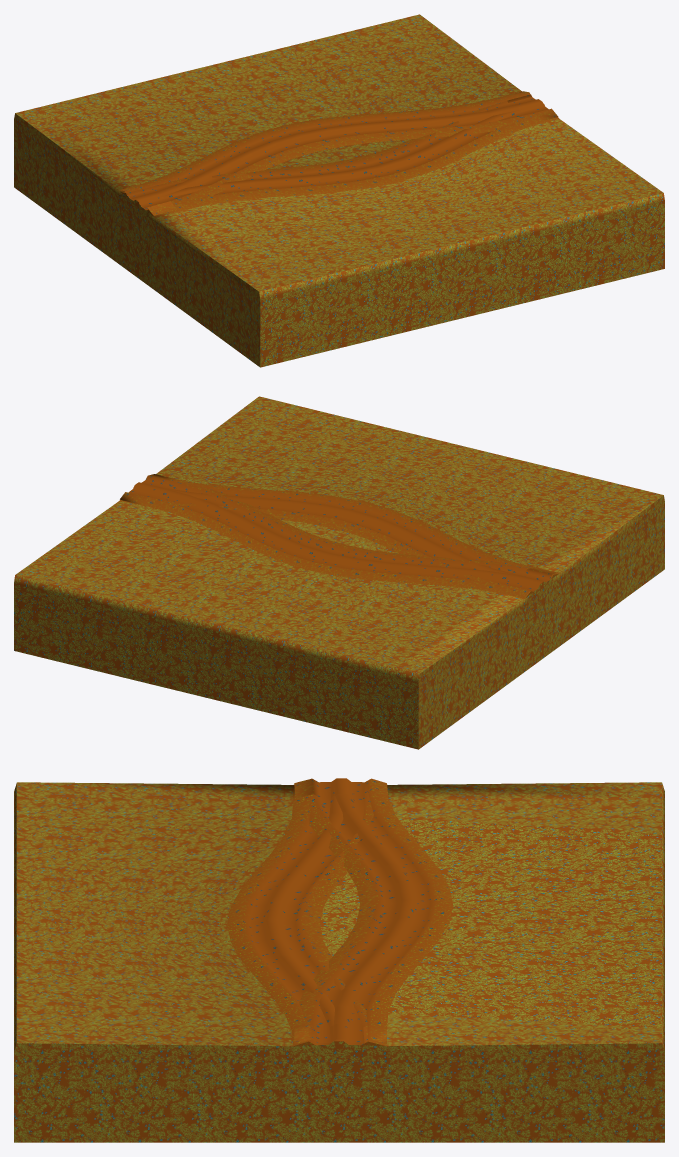
Rendered from Road_grooves_Diverge .fbx.
The picture shows the model from 3 angles, top to bottom: view 1: azimuth 30°, elevation 25°; view 2: azimuth 150°, elevation 25°; view 3: azimuth 270°, elevation 25°; orthographic projection. The views are drawn at different scales.
Parts seen in each view (by area): view 1: Mesh_Path_Diverge; view 2: Mesh_Path_Diverge; view 3: Mesh_Path_Diverge.
Part boxes in pixels (x1,y1,x2,y2): Mesh_Path_Diverge: (14, 14, 664, 367); Mesh_Path_Diverge: (14, 396, 664, 749); Mesh_Path_Diverge: (14, 778, 664, 1142).
Bounding box in the file's own units: 5593 × 1026 × 5890.
